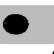correct: (2, 12, 30, 36)
